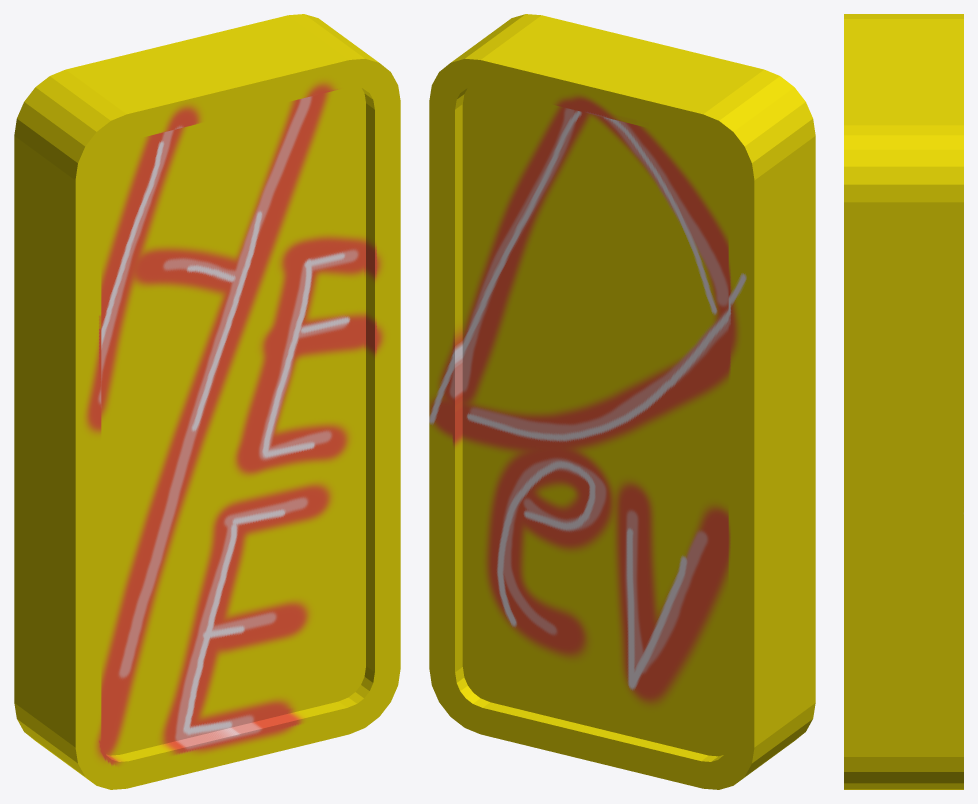
File: domino.glb
3 views of the same model, side by side, from view 1: azimuth 30°, elevation 25°; view 2: azimuth 150°, elevation 25°; view 3: azimuth 270°, elevation 25° (orthographic). The views are drawn at different scales.
Visible parts, largest first — view 1: Cube; view 2: Cube; view 3: Cube.
Boxes of the visible parts, bbox=[...] form: Cube: bbox=[14, 14, 400, 789]; Cube: bbox=[429, 14, 815, 789]; Cube: bbox=[844, 14, 963, 789].
Bounding box in the file's own units: 0.5971 × 1.18 × 0.1946.
1 material, 1 textured.
